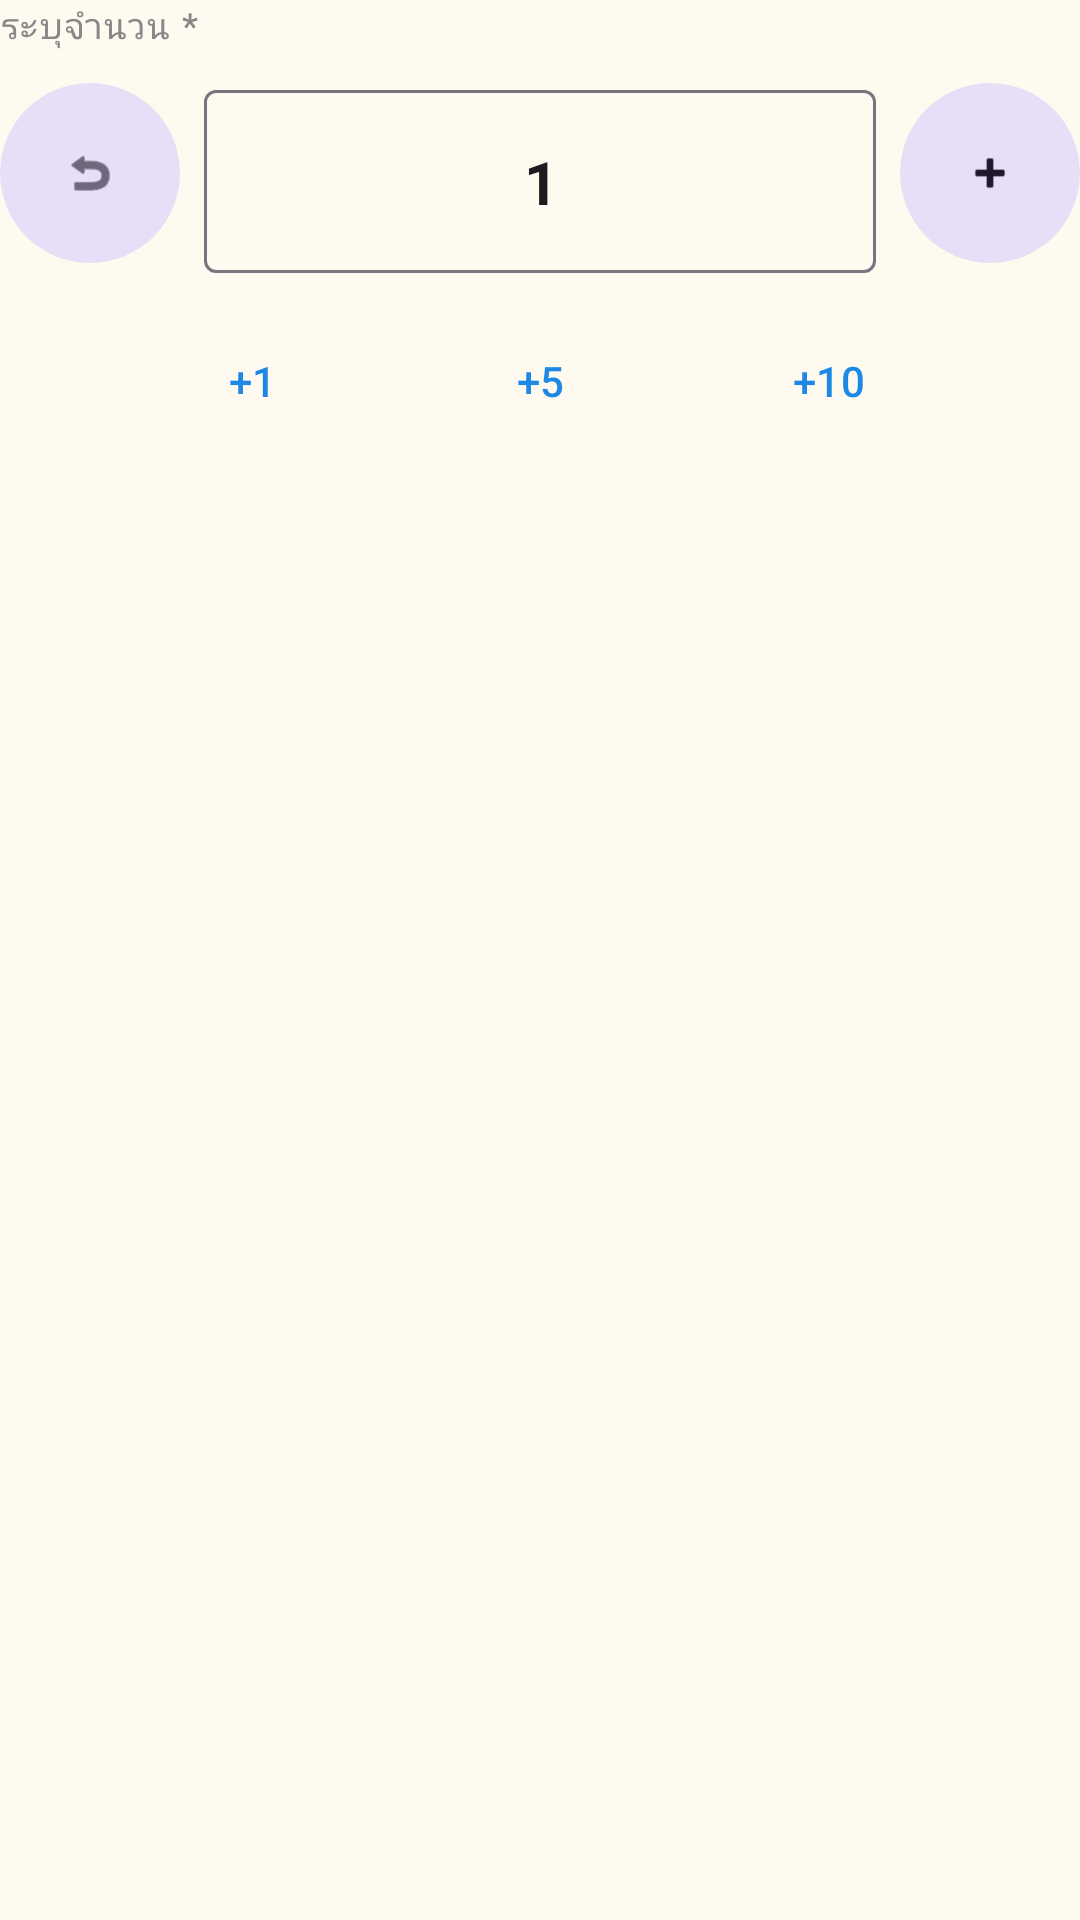

Screen size 1080px x 1920px. Icon name, then its center in pixels as (x,y):
add: (990,173)
revert: (90,173)
